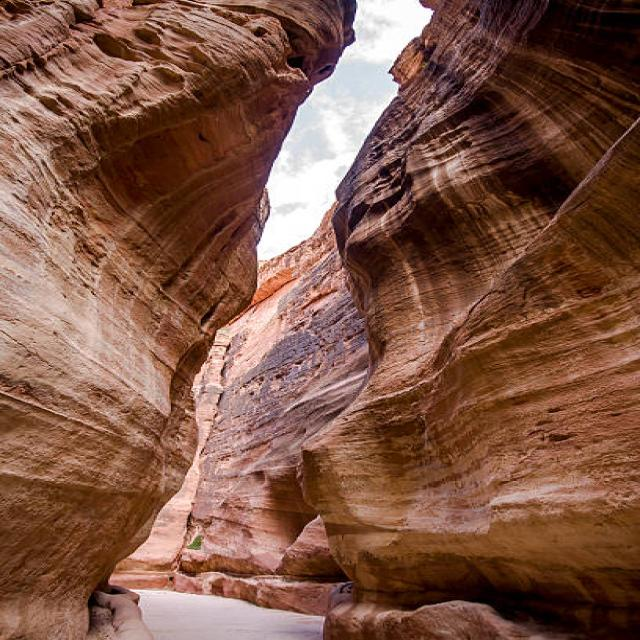Sedimentary: (1, 1, 640, 630)
